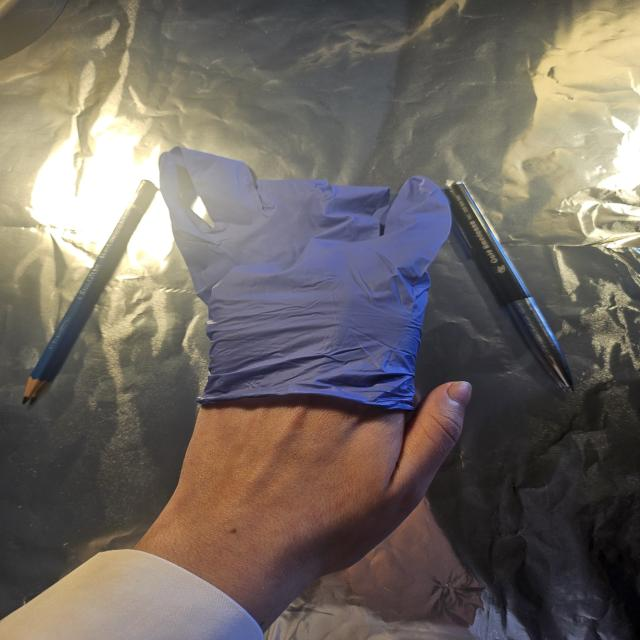glove_partial: (158, 144, 476, 541)
